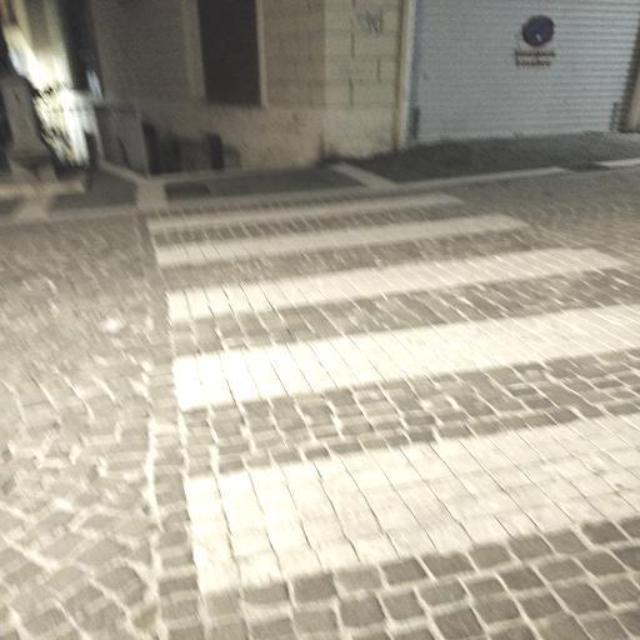sidewalk: (144, 192, 638, 596)
